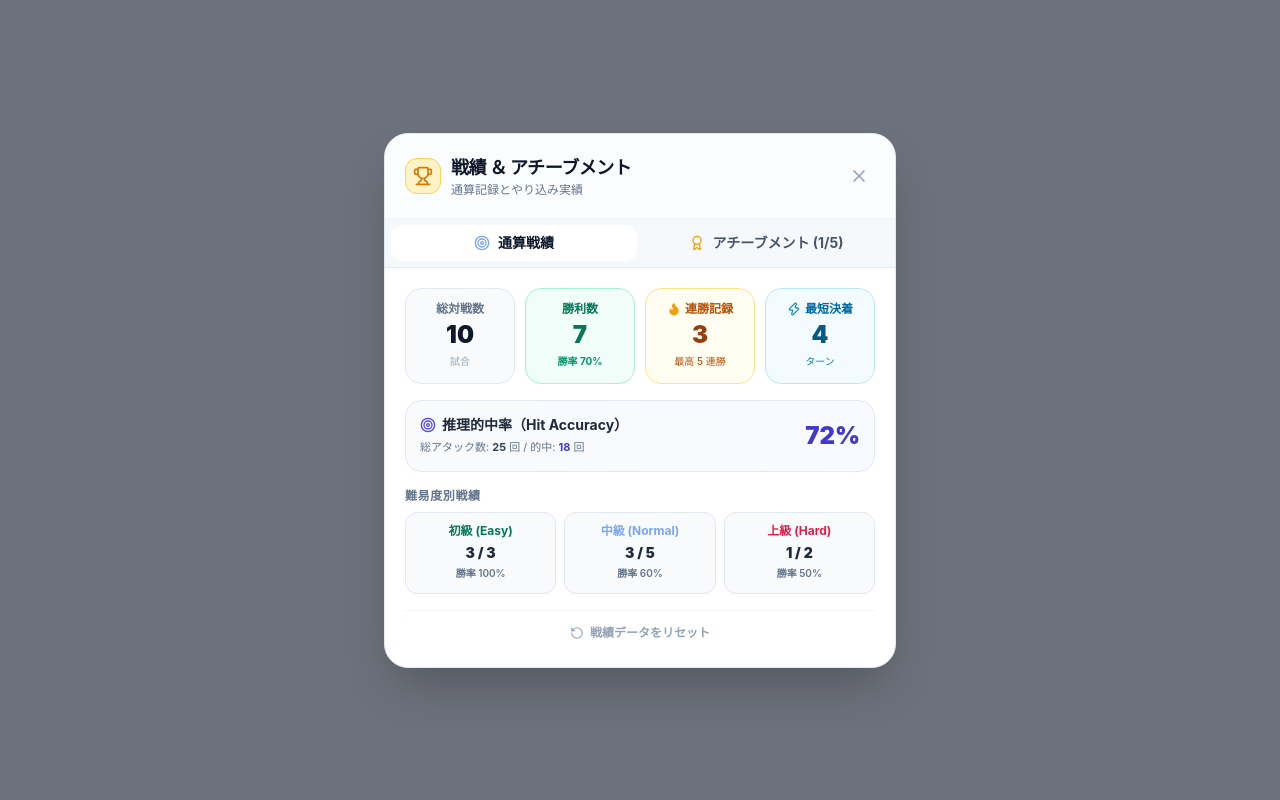
Test: StatsModal › displays unlocked and locked achievement badges accurately
Click the button with test id "tab-achievements" at (766, 242), box [643,224,889,260]
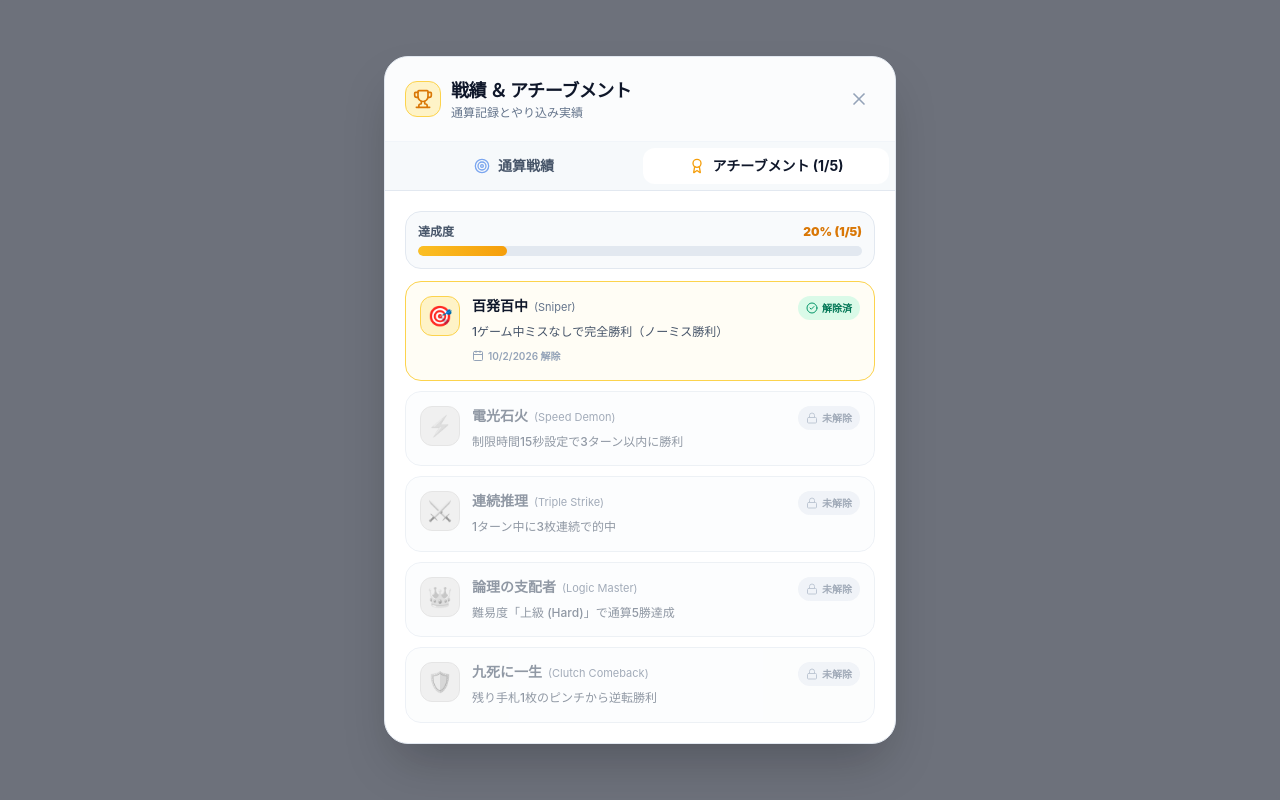
Expected: the element with test id "achievement-item-sniper" shows "解除済", [822,302,852,314]
Expected: the element with test id "achievement-item-sniper" shows "百発百中", [472,297,528,314]
Expected: the element with test id "achievement-item-speed_demon" shows "未解除", [822,412,852,424]
